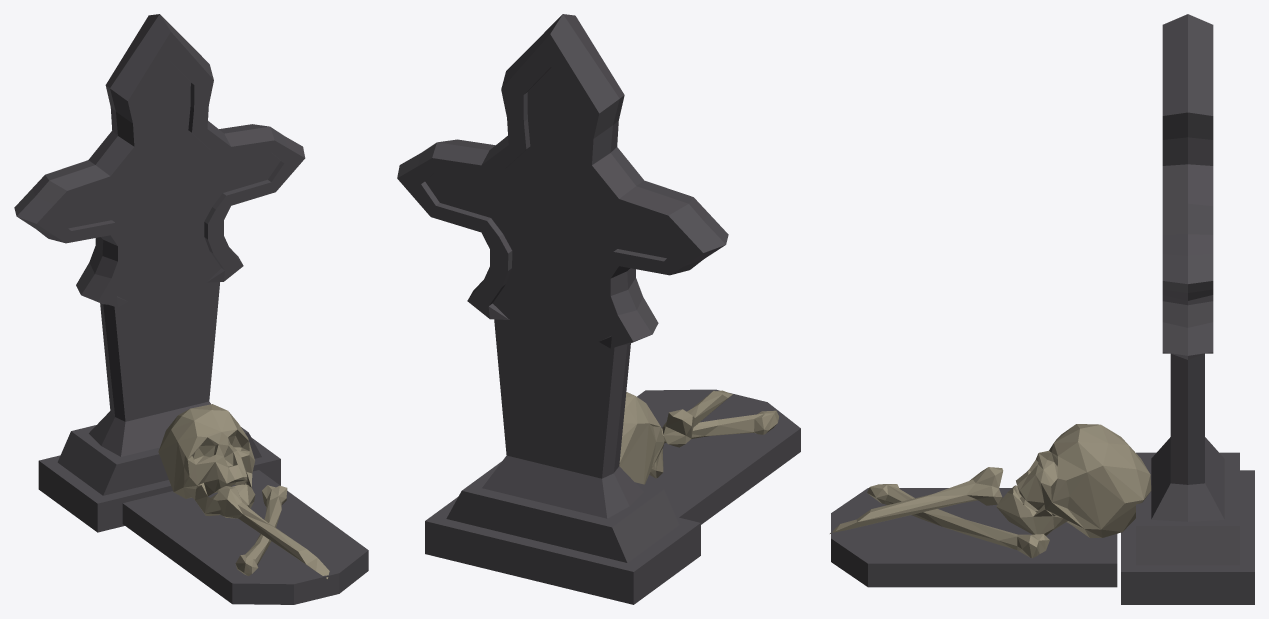
Rendered from cemetry_zeolitefbx.fbx.
The picture shows the model from 3 angles, left to right: view 1: azimuth 30°, elevation 25°; view 2: azimuth 150°, elevation 25°; view 3: azimuth 270°, elevation 25°; orthographic projection. The views are drawn at different scales.
Visible parts, largest first — view 1: bisuk1; view 2: bisuk1; view 3: bisuk1.
Boxes of the visible parts, left/top/right/bottom form: bisuk1: left=14, top=14, right=368, bottom=604; bisuk1: left=397, top=14, right=800, bottom=604; bisuk1: left=830, top=14, right=1254, bottom=604.
Bounding box in the file's own units: 167 × 265 × 189.
